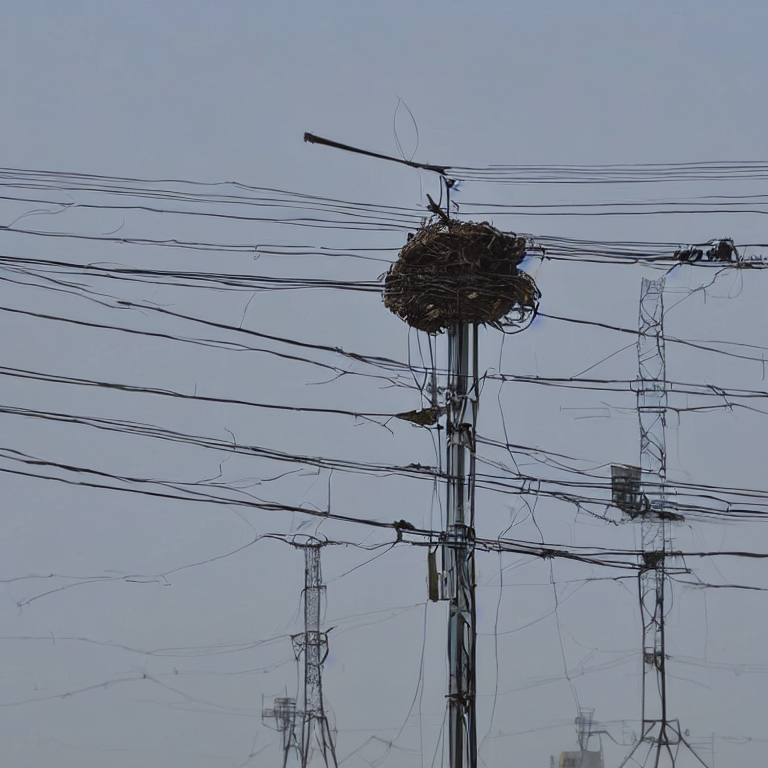nest: (383, 220, 534, 331)
